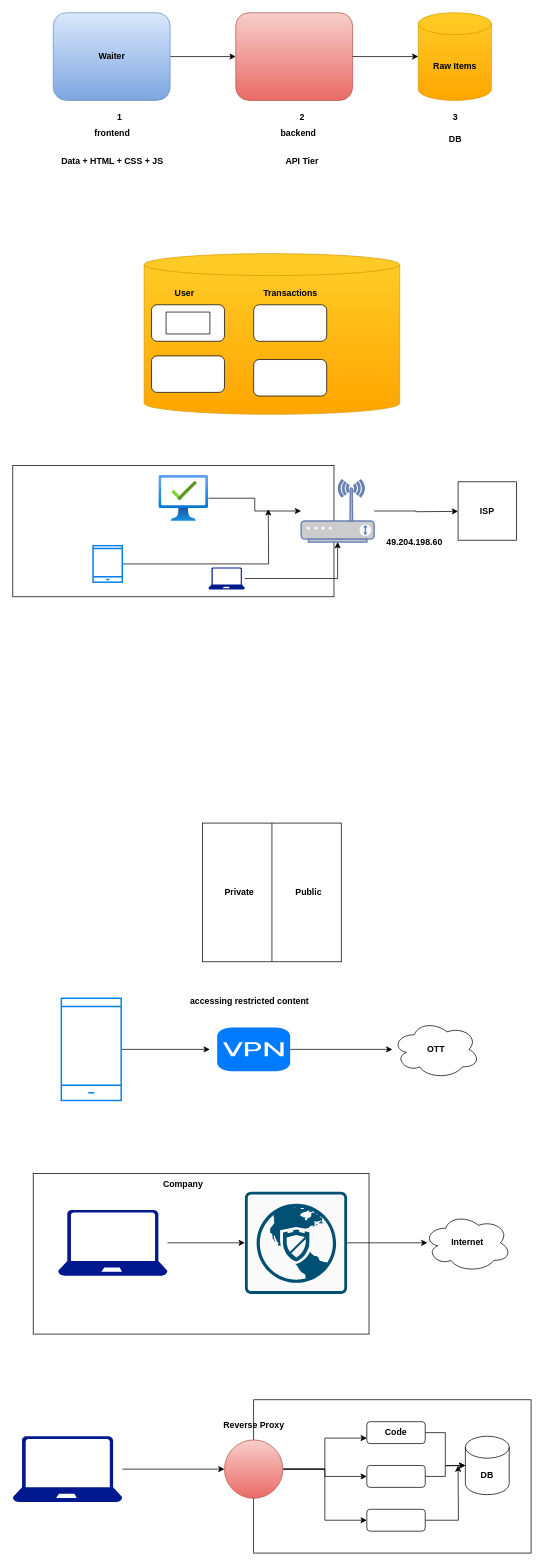
The diagram is 544 pixels wide and 1566 high, and some of its shapes have lost their labels. The centre of each missing label's shape, as x and y in pixels:
"Chef" goes at point 294,56.
"nginx" goes at point 253,1468.
"Table" goes at point 187,322.
